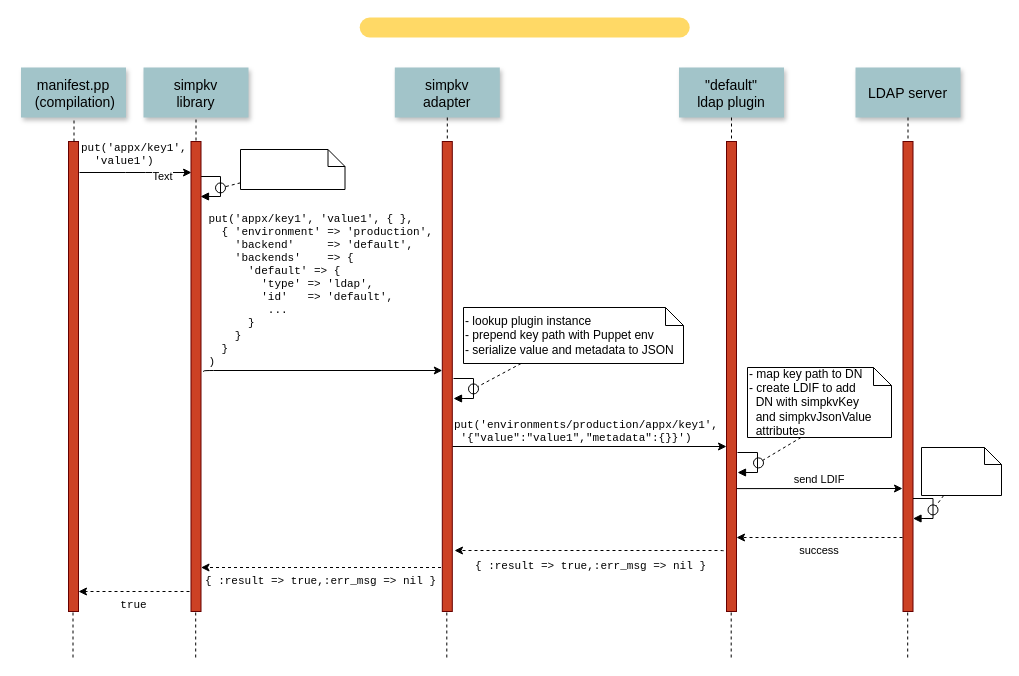
The diagram is 1019 pixels wide and 676 high, and some of its shapes have lost their labels. The centre of each missing label's shape, as x and y in pixels:
"create DN with attributes" belongs at [961,471].
"create merged backend options" belongs at [292,169].
"simpkv::put Operation for Non-global Key" belongs at [524,27].
